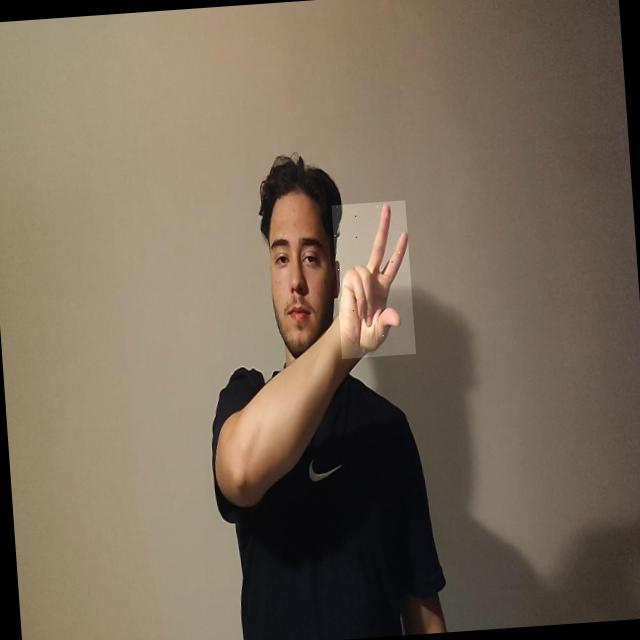no: (331, 200, 416, 358)
